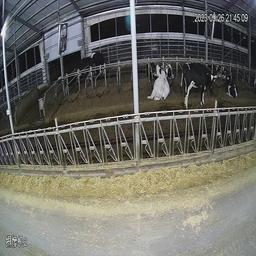cow: (180, 55, 215, 110), (148, 61, 172, 108), (85, 43, 107, 82), (223, 72, 244, 101)
